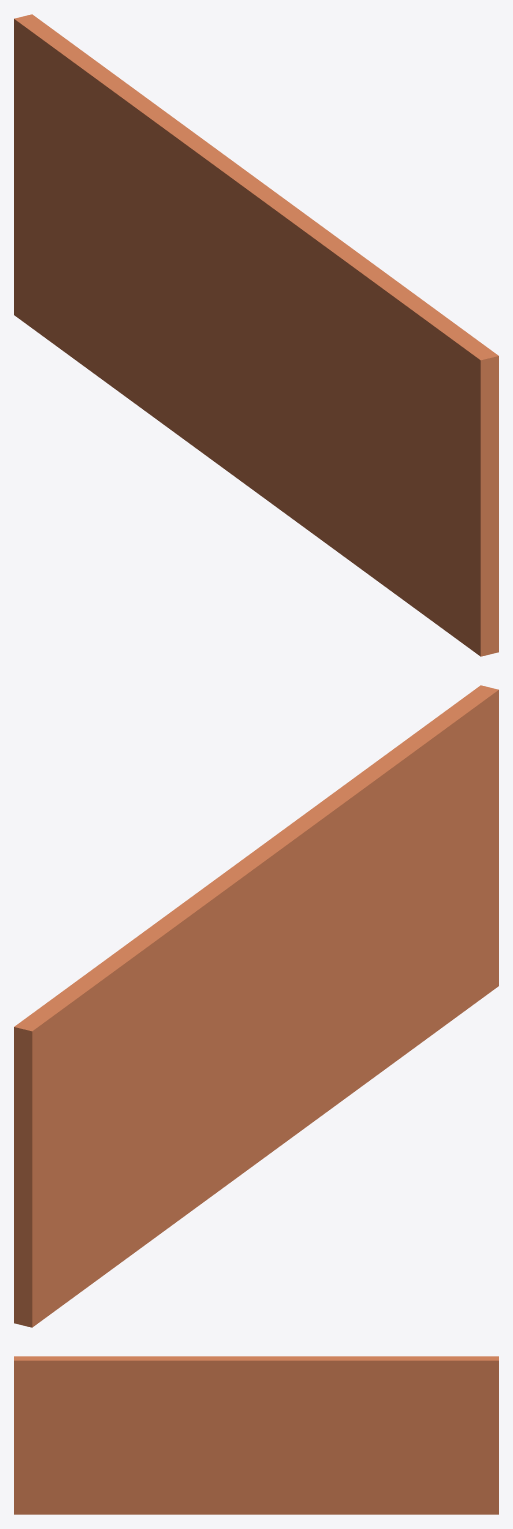
File: art_floor1.glb
3 renders of one model, top to bottom at view 1: azimuth 30°, elevation 25°; view 2: azimuth 150°, elevation 25°; view 3: azimuth 270°, elevation 25°, orthographic. The views are drawn at different scales.
Visible parts, largest first — view 1: Cube; view 2: Cube; view 3: Cube.
Boxes of the visible parts, box(x1,y1,x2,y2) form: Cube: box(14, 14, 498, 656); Cube: box(14, 685, 498, 1327); Cube: box(14, 1356, 498, 1514).
Size of what is drawn, in the model's own units: 0.2639 by 4.1 by 11.7.
